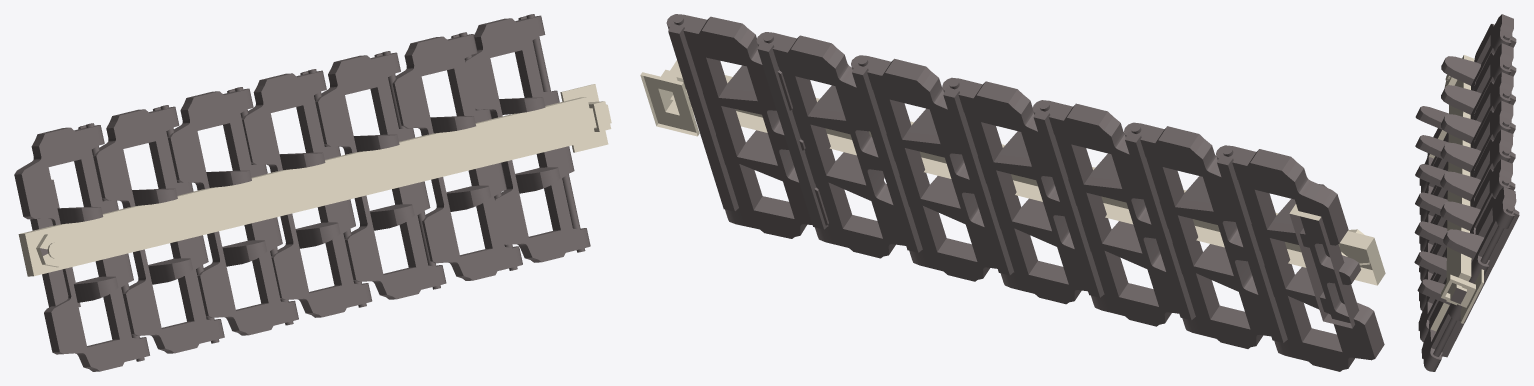
The model's file is AddOnTrackBigHZ.fbx.
3 views of the same model, side by side, from view 1: azimuth 30°, elevation 25°; view 2: azimuth 150°, elevation 25°; view 3: azimuth 270°, elevation 25° (orthographic). The views are drawn at different scales.
Parts seen in each view (by area): view 1: AddOnTrack1; view 2: AddOnTrack1; view 3: AddOnTrack1.
Part boxes in pixels (box(x1,y1,x2,y2)): AddOnTrack1: box(14, 14, 611, 371); AddOnTrack1: box(640, 14, 1385, 371); AddOnTrack1: box(1414, 14, 1519, 371).
Size of the model in its own units: 60.67 by 311 by 106.
